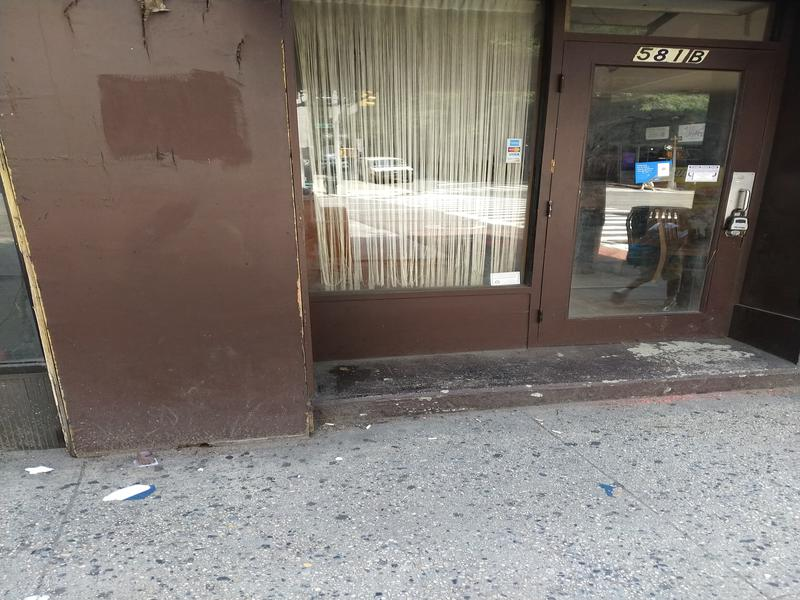door: (545, 36, 764, 349)
